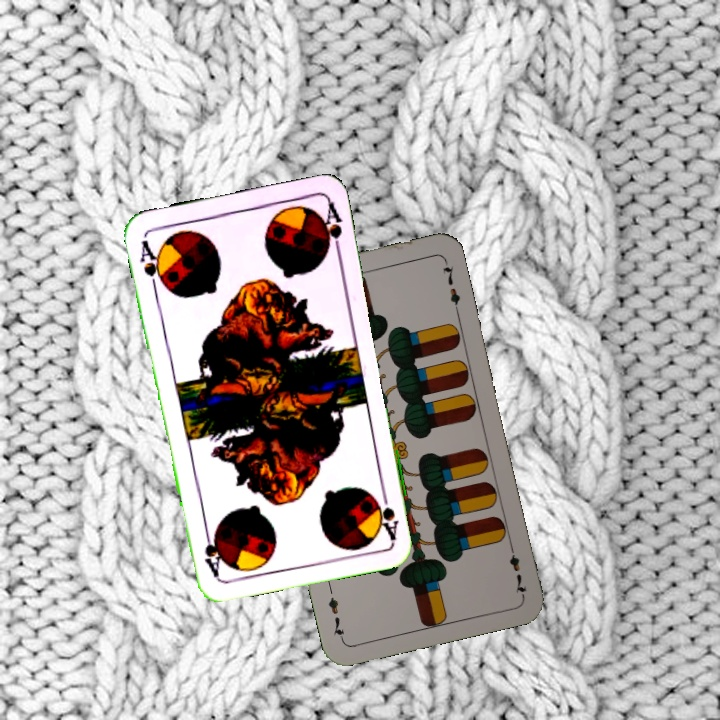E7: (505, 539, 529, 598)
SA: (135, 235, 168, 293), (371, 483, 401, 542)
